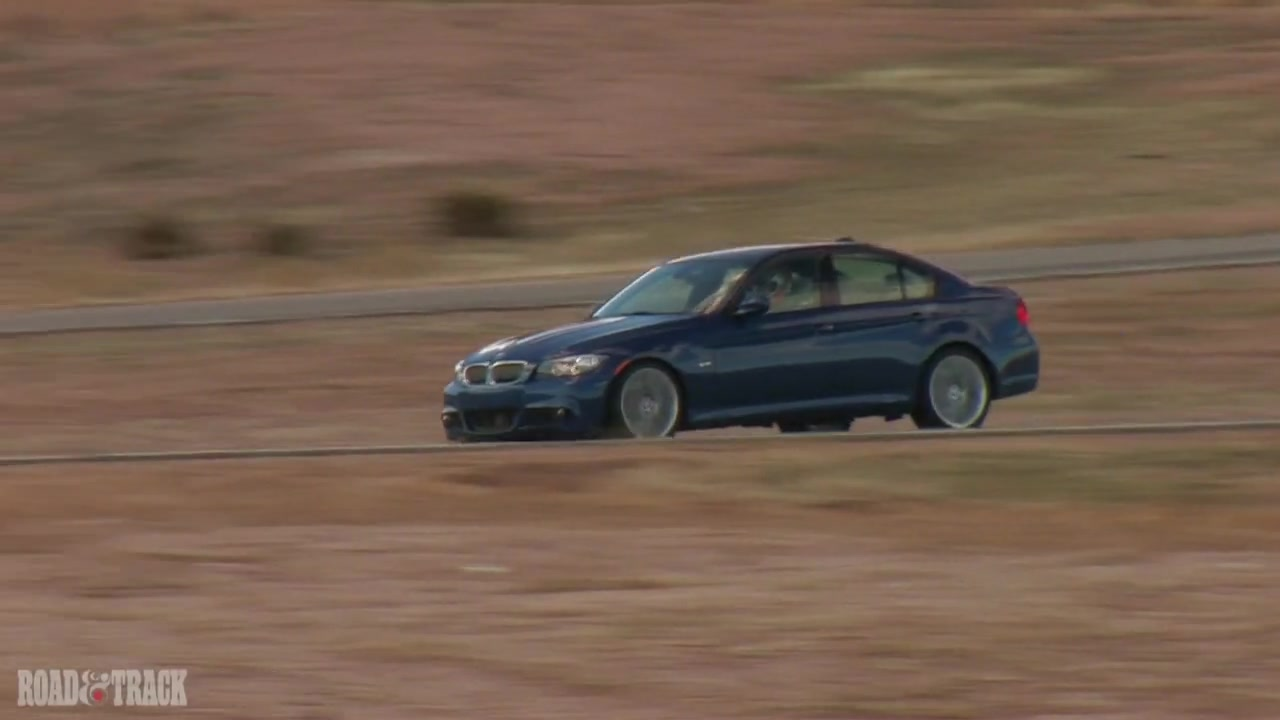car: (438, 244, 1046, 440)
